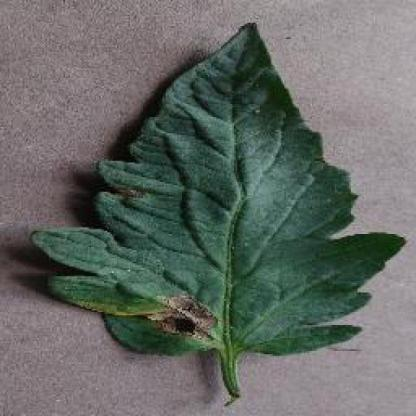Tomato_Blight: (30, 22, 407, 355)
